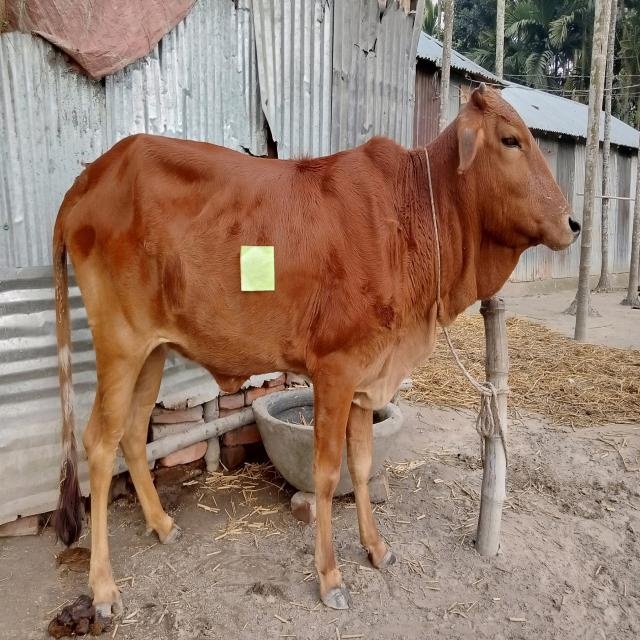badan_sapi: (98, 157, 386, 373)
sapi: (46, 79, 587, 624)
